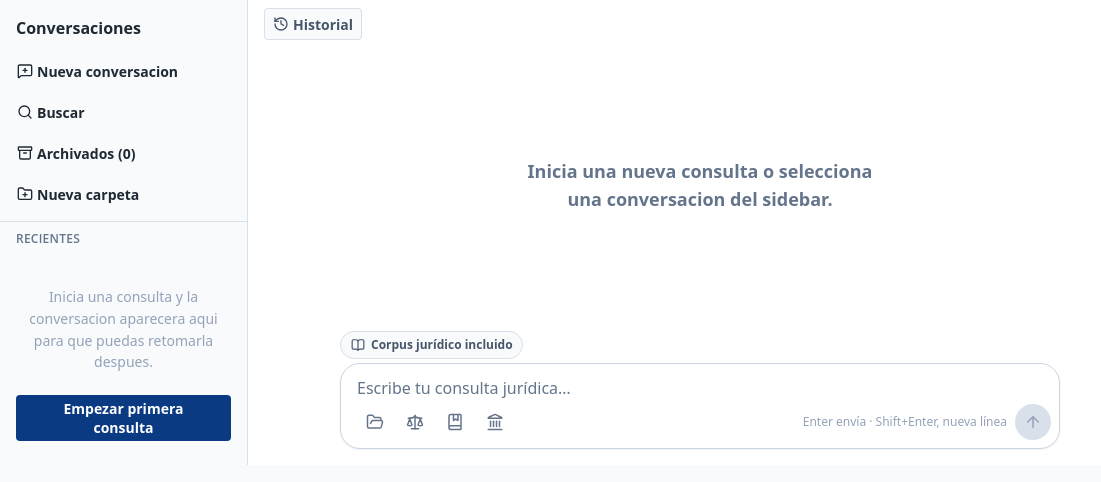
Test: Asistente (chat) › P4: los tokens del stream no releen el store de localStorage
In the text box labelled "consulta": (704,388) 357,376 -> 1051,400, type "consulta larga"
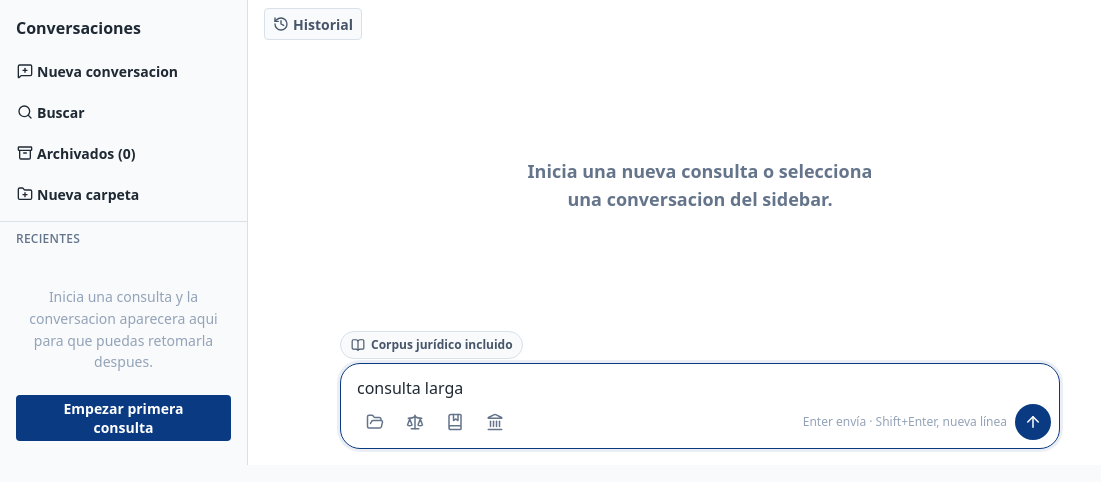
Click the button named "enviar": (1033,422) 1015,404 -> 1051,440
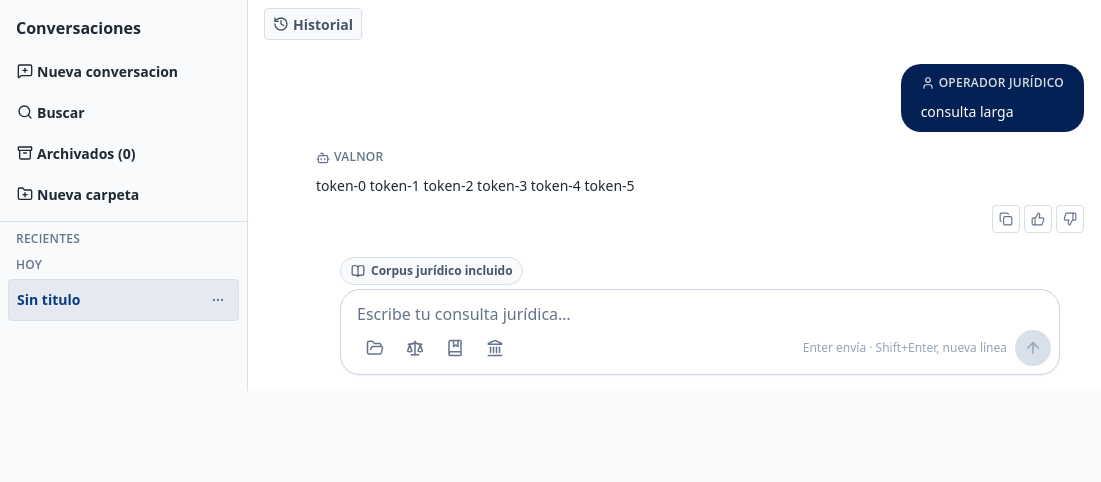
Check: the text "token-0 token-1 token-2 token-3 token-4 token-5" is shown, box 316,176 -> 635,195
